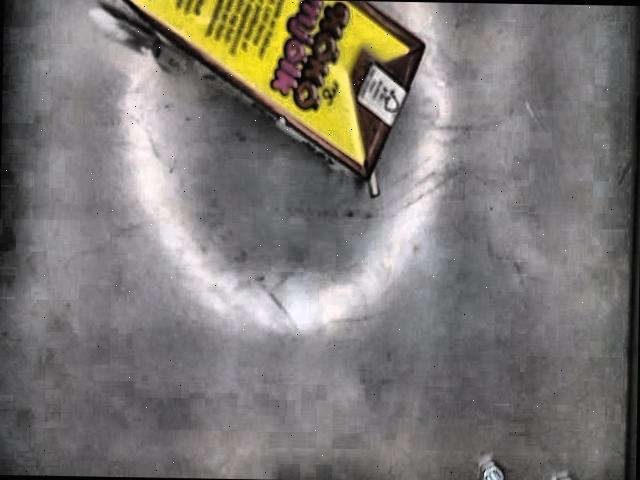Paper: (87, 0, 428, 199)
